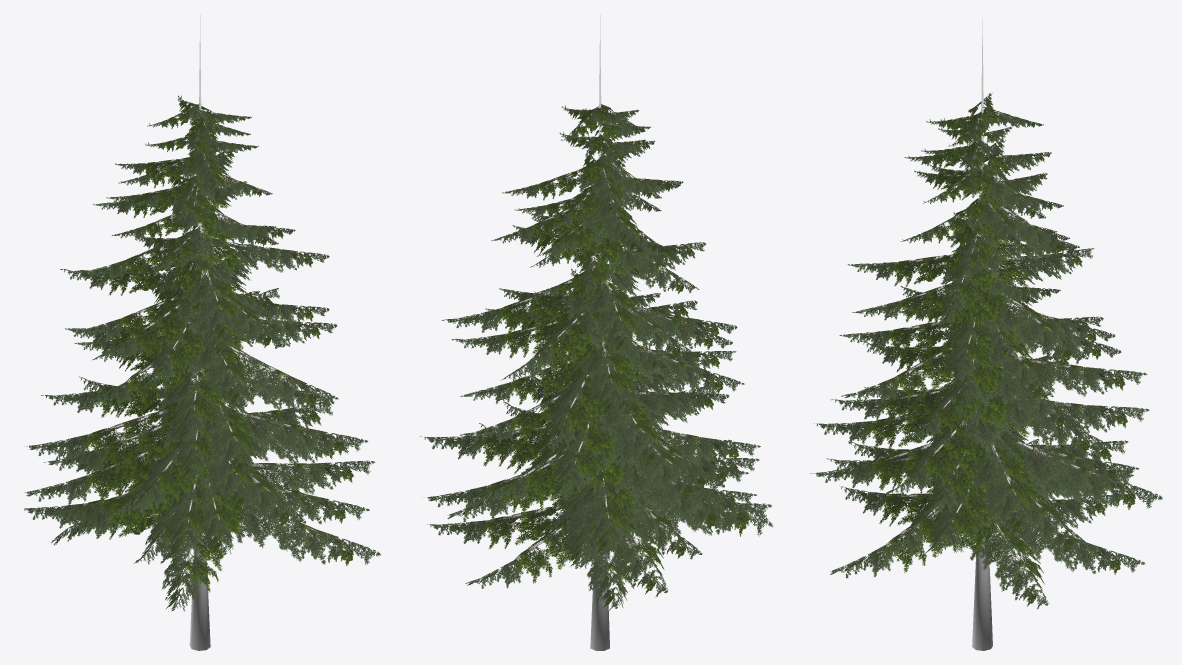
Rendered from Tree2.002.fbx.
3 views of the same model, side by side, from view 1: azimuth 30°, elevation 25°; view 2: azimuth 150°, elevation 25°; view 3: azimuth 270°, elevation 25° (orthographic).
Parts seen in each view (by area): view 1: Tree2.002; view 2: Tree2.002; view 3: Tree2.002.
Part boxes in pixels (<box>): Tree2.002: <box>24,14,380,650</box>; Tree2.002: <box>420,15,773,650</box>; Tree2.002: <box>810,19,1162,650</box>.
Bounding box in the file's own units: 1.27 × 2.37 × 1.23.
